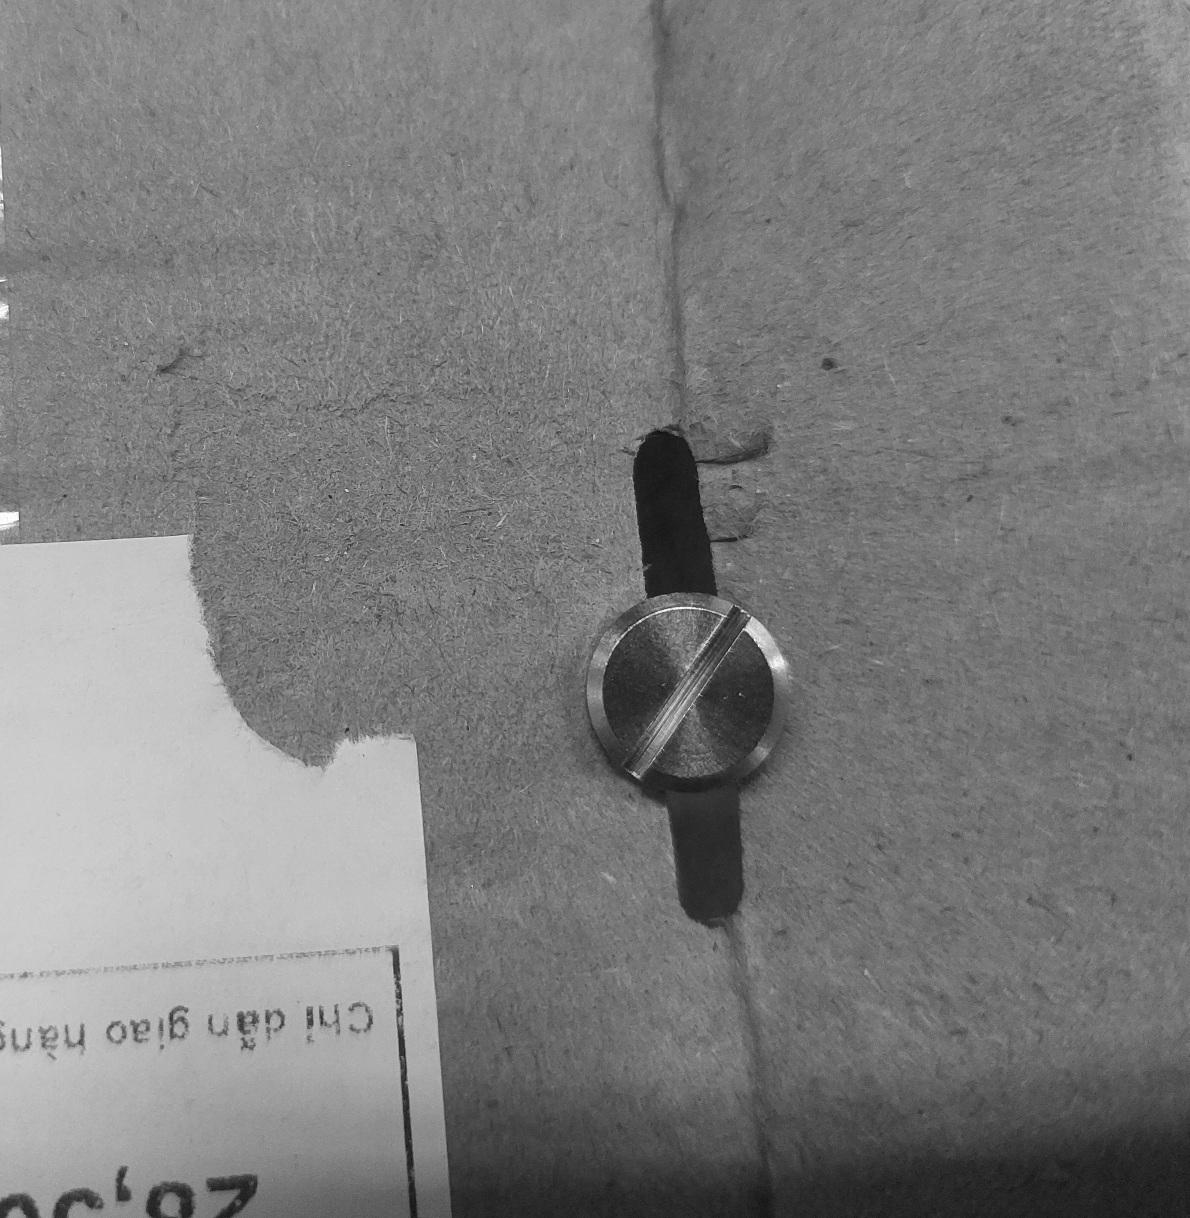slotted: (591, 590, 793, 804)
